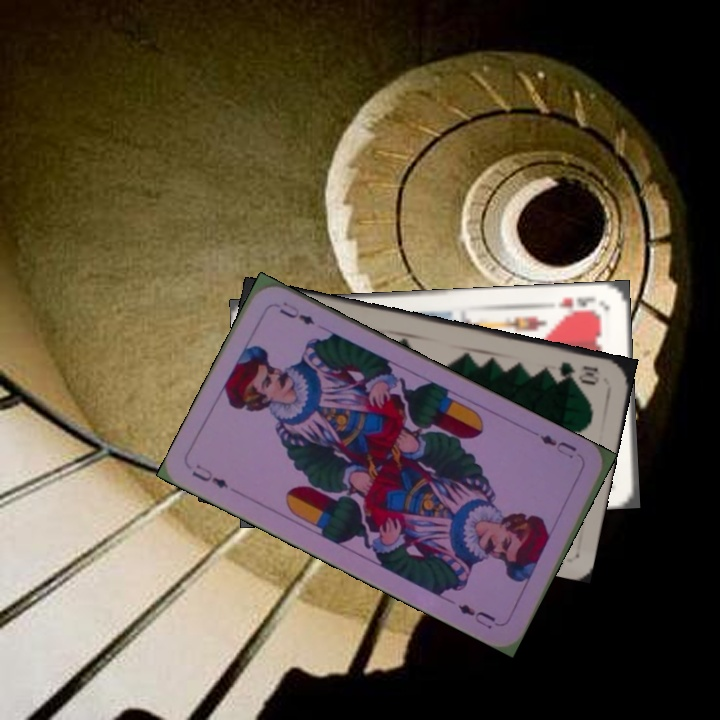EU: (535, 430, 580, 462), (187, 460, 231, 491)
G10: (554, 357, 602, 386)
HK: (554, 293, 599, 312)
